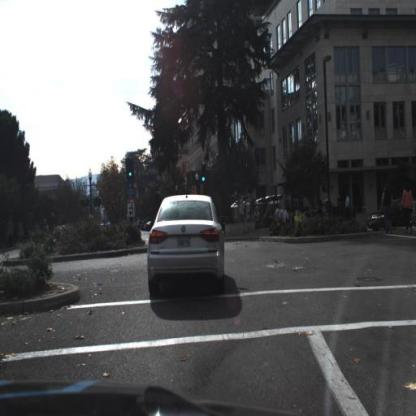car: (146, 193, 226, 297)
pedestrian: (381, 183, 394, 238), (401, 184, 413, 237), (346, 194, 356, 234), (336, 194, 344, 231), (284, 206, 290, 235), (278, 203, 282, 232)
trafficLight: (128, 158, 136, 181)
trafficLight-Green: (201, 165, 206, 186)
